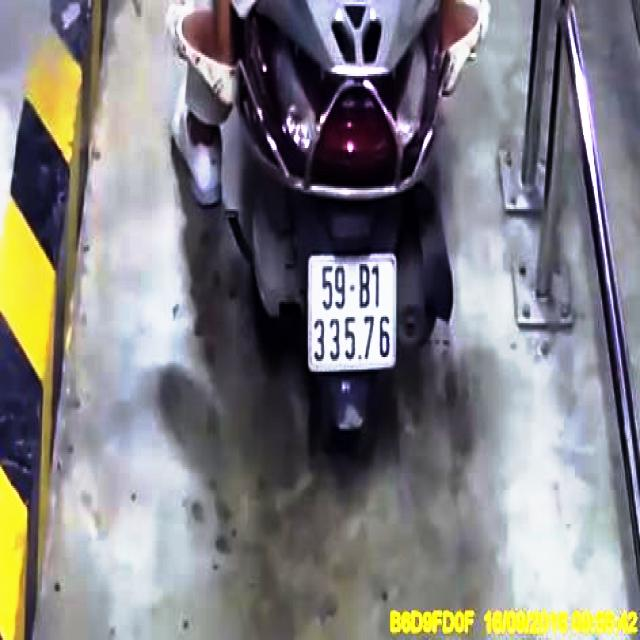license_plate: (308, 253, 396, 369)
